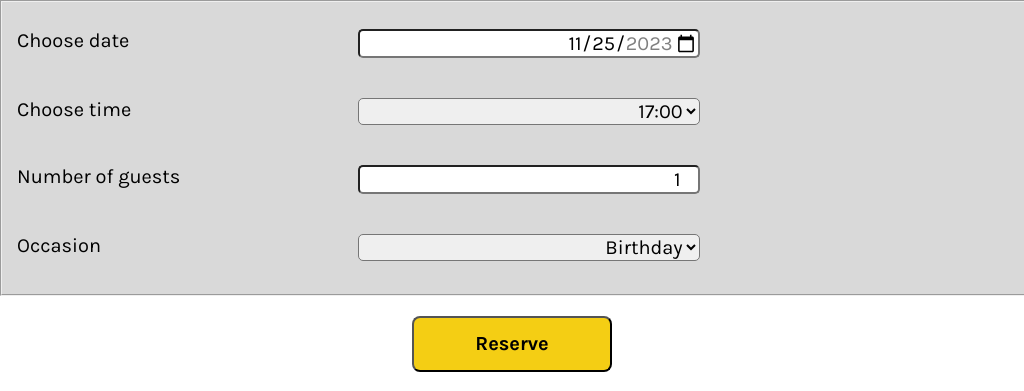
Test: Checks date validation - date in too far future
Type "2025-11-01" into the date field labelled "Choose date" at point(529, 44), box [358,29,700,58]
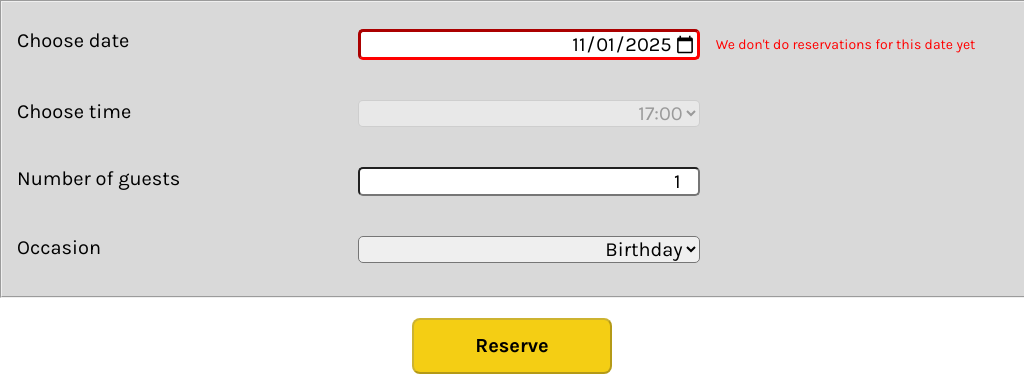
Expected: the text with test id "error-date" reads "We don't do reservations for this date yet", [716,36,975,53]
